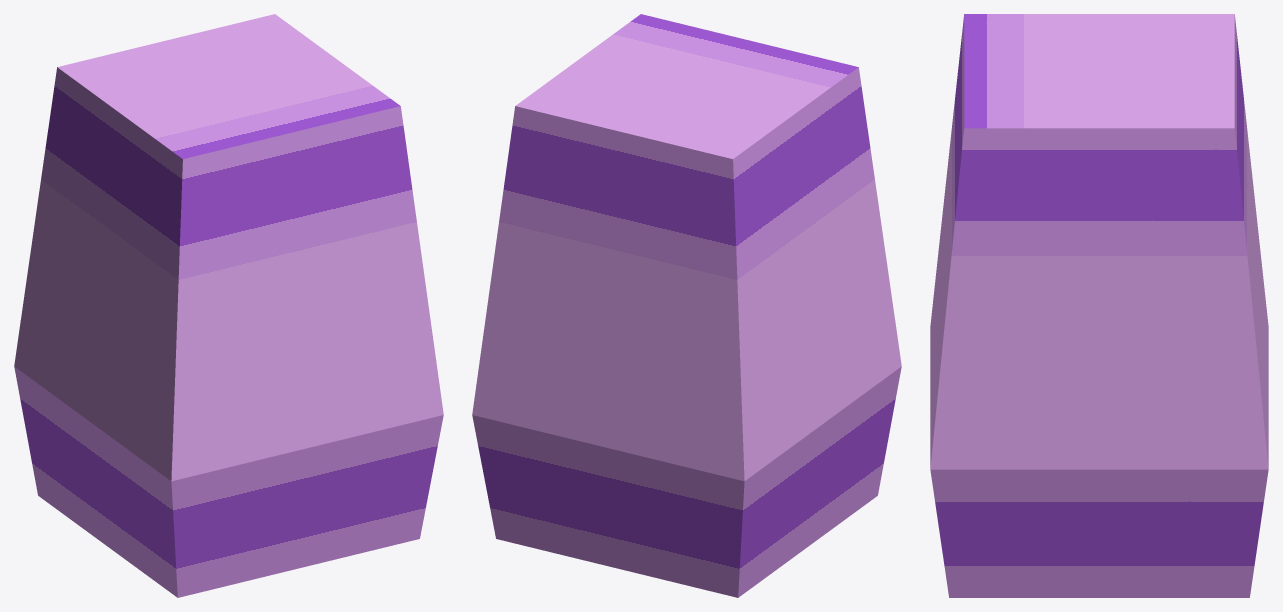
The model's file is glow_cell_emission.obj.
3 views of the same model, side by side, from view 1: azimuth 30°, elevation 25°; view 2: azimuth 150°, elevation 25°; view 3: azimuth 270°, elevation 25° (orthographic). The views are drawn at different scales.
Parts seen in each view (by area): view 1: model; view 2: model; view 3: model.
Part boxes in pixels (left/top/right/bottom): model: left=14, top=14, right=443, bottom=597; model: left=472, top=14, right=901, bottom=597; model: left=930, top=14, right=1268, bottom=597.
Bounding box in the file's own units: 0.2812 × 0.425 × 0.2812.
